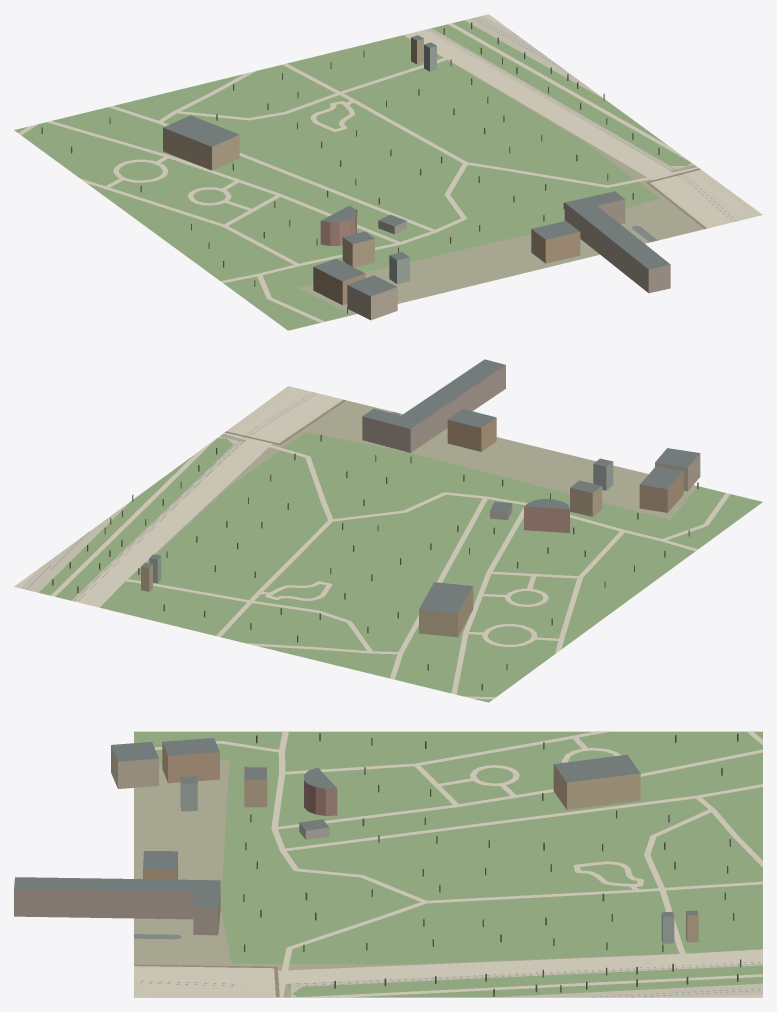
The model's file is sector--1_-1.glb.
3 views of the same model, one above another, from view 1: azimuth 30°, elevation 25°; view 2: azimuth 150°, elevation 25°; view 3: azimuth 270°, elevation 25° (orthographic). The views are drawn at different scales.
Parts seen in each view (by area): view 1: -1:-1-park, -1:-1-paving, -1:-1-facade, -1:-1-ground, -1:-1-roof, -1:-1-boulevard, -1:-1-trunk; view 2: -1:-1-park, -1:-1-paving, -1:-1-facade, -1:-1-ground, -1:-1-roof, -1:-1-boulevard, -1:-1-trunk; view 3: -1:-1-park, -1:-1-paving, -1:-1-facade, -1:-1-ground, -1:-1-roof, -1:-1-boulevard, -1:-1-trunk.
Part boxes in pixels (box(x1,y1,x2,y2)): -1:-1-park: box(14, 20, 690, 330); -1:-1-paving: box(18, 14, 762, 330); -1:-1-facade: box(163, 37, 670, 320); -1:-1-ground: box(298, 54, 749, 314); -1:-1-roof: box(163, 35, 670, 296); -1:-1-boulevard: box(427, 15, 693, 170); -1:-1-trunk: box(41, 22, 659, 313); -1:-1-park: box(39, 432, 762, 702); -1:-1-paving: box(14, 386, 762, 699); -1:-1-facade: box(141, 365, 700, 637); -1:-1-ground: box(117, 400, 697, 589); -1:-1-roof: box(141, 359, 699, 613); -1:-1-boulevard: box(15, 436, 243, 604); -1:-1-trunk: box(52, 434, 698, 690); -1:-1-park: box(134, 731, 762, 997); -1:-1-paving: box(134, 731, 762, 997); -1:-1-facade: box(14, 742, 698, 943); -1:-1-ground: box(134, 760, 762, 997); -1:-1-roof: box(14, 738, 698, 916); -1:-1-boulevard: box(291, 962, 762, 997); -1:-1-trunk: box(243, 733, 741, 996).
Bounding box in the file's own units: 200 × 9.6 × 238.
